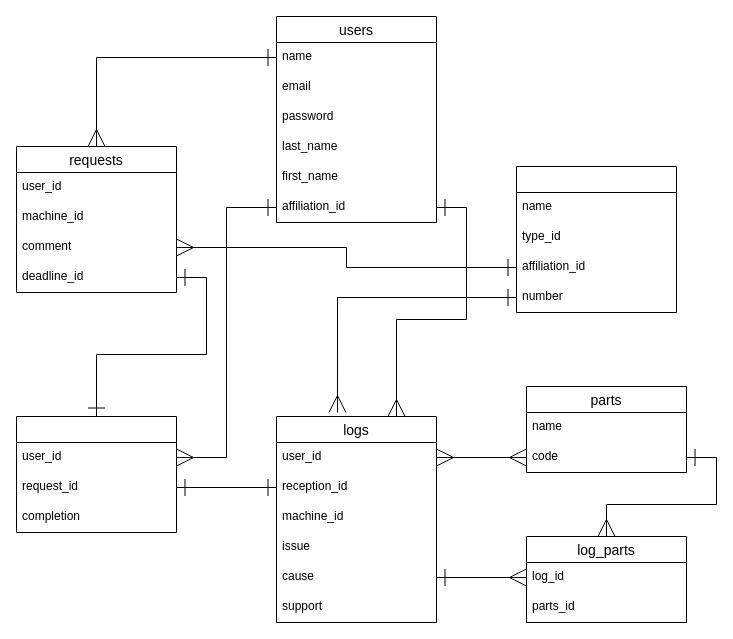
The diagram is 733 pixels wide and 639 high, and some of its shapes have lost their labels. The box of each missing label's shape, as (x1, y1, x2, y2) in pixels:
machines: (516, 166, 676, 312)
receptions: (16, 416, 176, 532)
